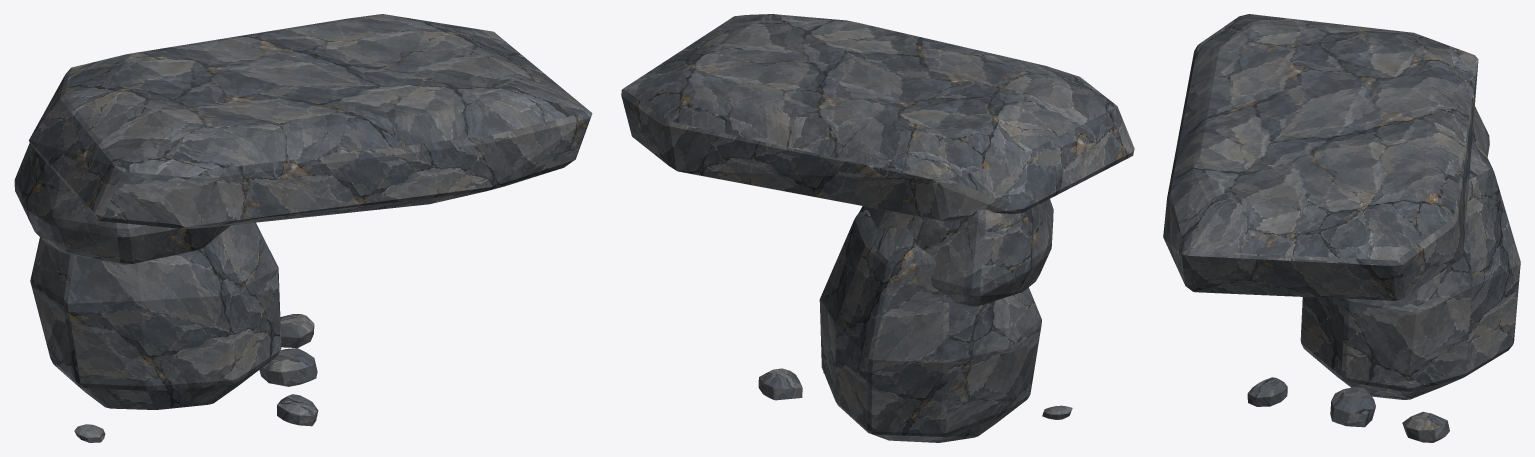
File: Cave_R11_Overhang.fbx
The picture shows the model from 3 angles, left to right: view 1: azimuth 30°, elevation 25°; view 2: azimuth 150°, elevation 25°; view 3: azimuth 270°, elevation 25°; orthographic projection. The views are drawn at different scales.
Visible parts, largest first — view 1: Cave_R11_Overhang_LOD0; view 2: Cave_R11_Overhang_LOD0; view 3: Cave_R11_Overhang_LOD0.
Boxes of the visible parts, bbox=[...] form: Cave_R11_Overhang_LOD0: bbox=[14, 14, 592, 442]; Cave_R11_Overhang_LOD0: bbox=[621, 14, 1134, 442]; Cave_R11_Overhang_LOD0: bbox=[1163, 14, 1520, 442].
Size of what is drawn, in the model's own units: 3.84 by 2.51 by 2.58.
Materials: 1 (1 with a texture image).
